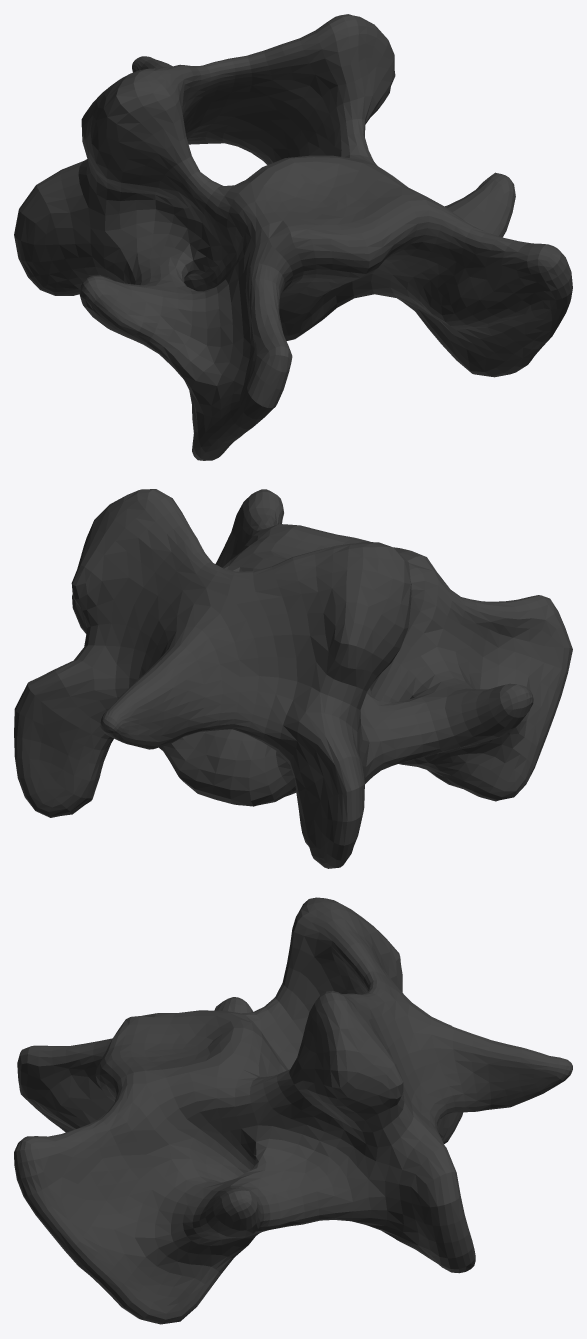
3 renders of one model, top to bottom at view 1: azimuth 30°, elevation 25°; view 2: azimuth 150°, elevation 25°; view 3: azimuth 270°, elevation 25°, orthographic. The views are drawn at different scales.
Visible parts, largest first — view 1: B_C6; view 2: B_C6; view 3: B_C6.
Boxes of the visible parts, <box> form: B_C6: <box>14,14,572,460</box>; B_C6: <box>14,489,572,868</box>; B_C6: <box>14,897,572,1324</box>.
Size of the model in its own units: 0.00313 by 0.00216 by 0.00362.
Materials: 1 (1 with a texture image).
